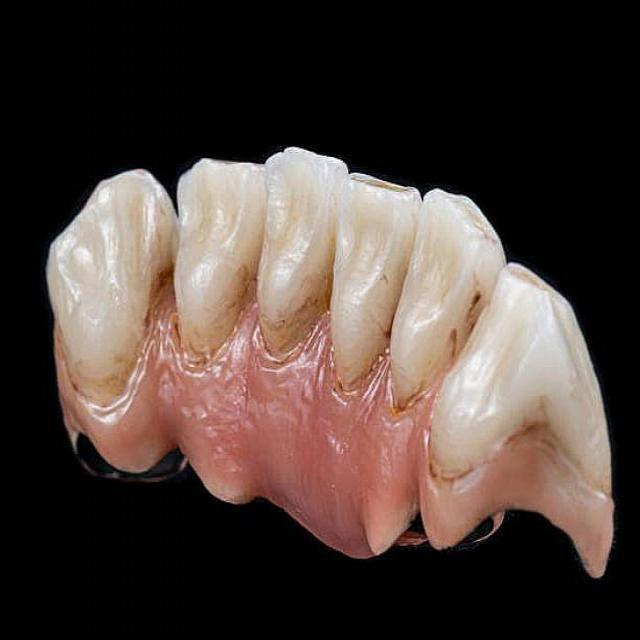CALCULUS: (261, 293, 338, 343), (98, 330, 144, 398), (447, 293, 503, 345), (149, 255, 195, 313), (417, 455, 491, 485), (226, 266, 261, 324), (525, 413, 571, 447), (397, 381, 427, 407)
